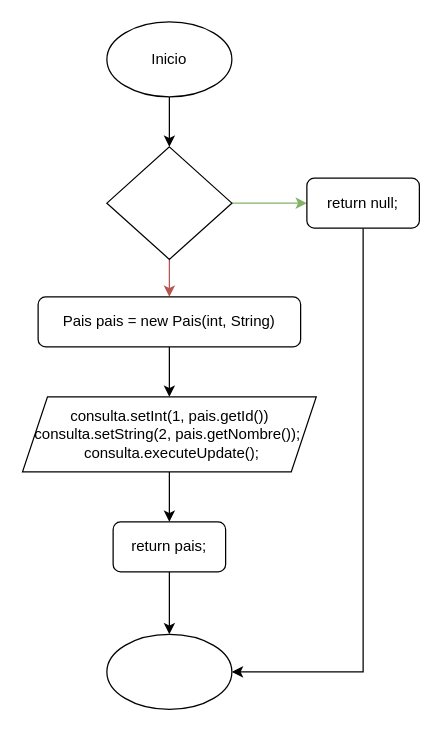
Image size: 441x731. Some labels were removed from this diagram. Here are the shapes that lost their labels. From the top down, the centre of each, then its label:
point (169, 202): Existe(int, String)
point (169, 671): Fin
